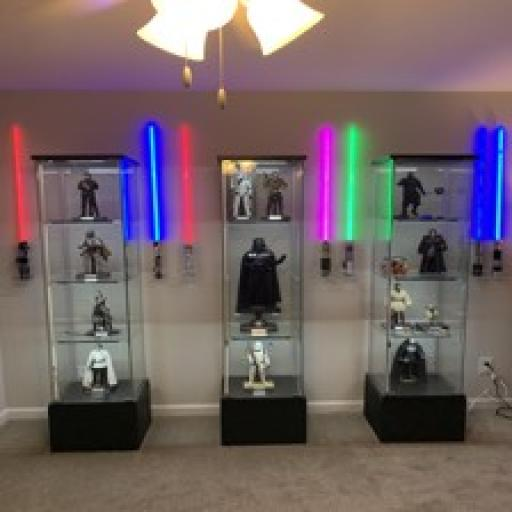lightsaber: (145, 124, 170, 286), (8, 122, 32, 282), (180, 125, 200, 288), (318, 126, 334, 278), (345, 120, 360, 278), (494, 123, 505, 279)
